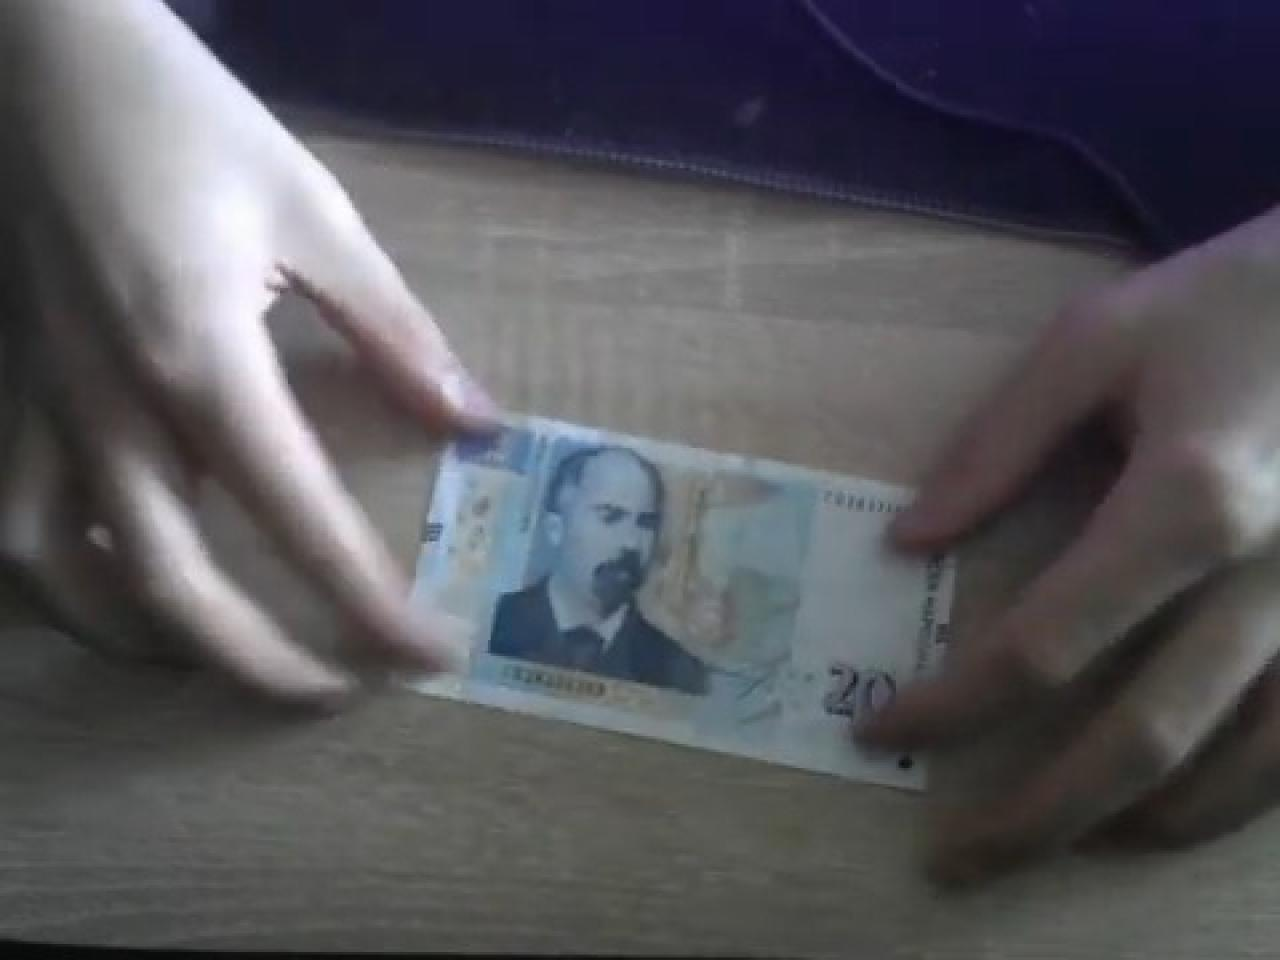20leva: (482, 440, 714, 699)
